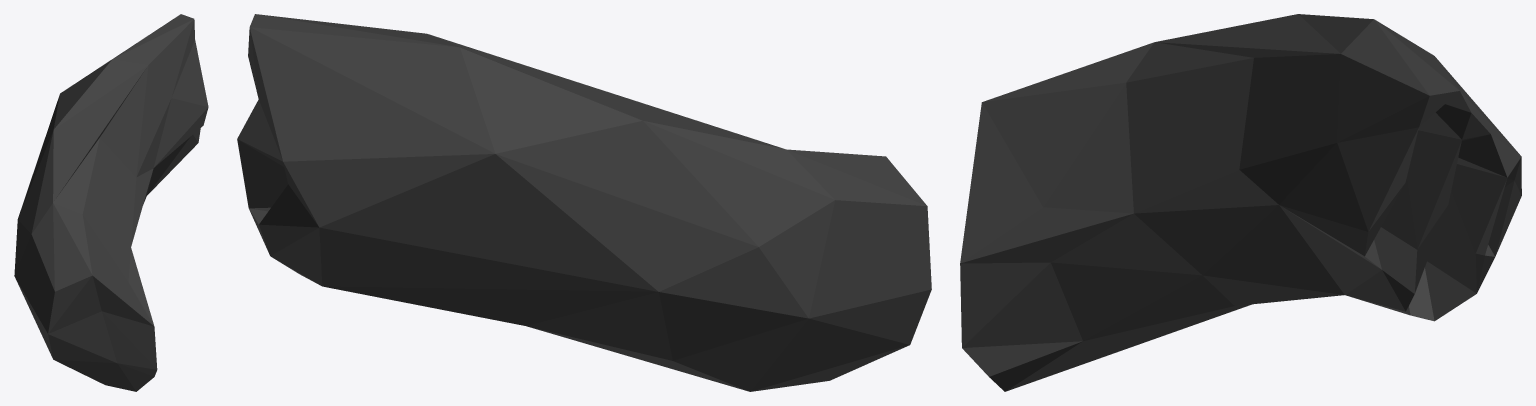
The model's file is chin_skull_L_023_1.glb.
3 renders of one model, left to right at view 1: azimuth 30°, elevation 25°; view 2: azimuth 150°, elevation 25°; view 3: azimuth 270°, elevation 25°, orthographic. The views are drawn at different scales.
Visible parts, largest first — view 1: chin_skull_L_023_1; view 2: chin_skull_L_023_1; view 3: chin_skull_L_023_1.
Part boxes in pixels (bbox=[...]): chin_skull_L_023_1: bbox=[14, 14, 208, 391]; chin_skull_L_023_1: bbox=[237, 14, 931, 391]; chin_skull_L_023_1: bbox=[960, 14, 1521, 391].
Bounding box in the file's own units: 0.2833 × 0.2555 × 0.2878.
1 material, 1 textured.
